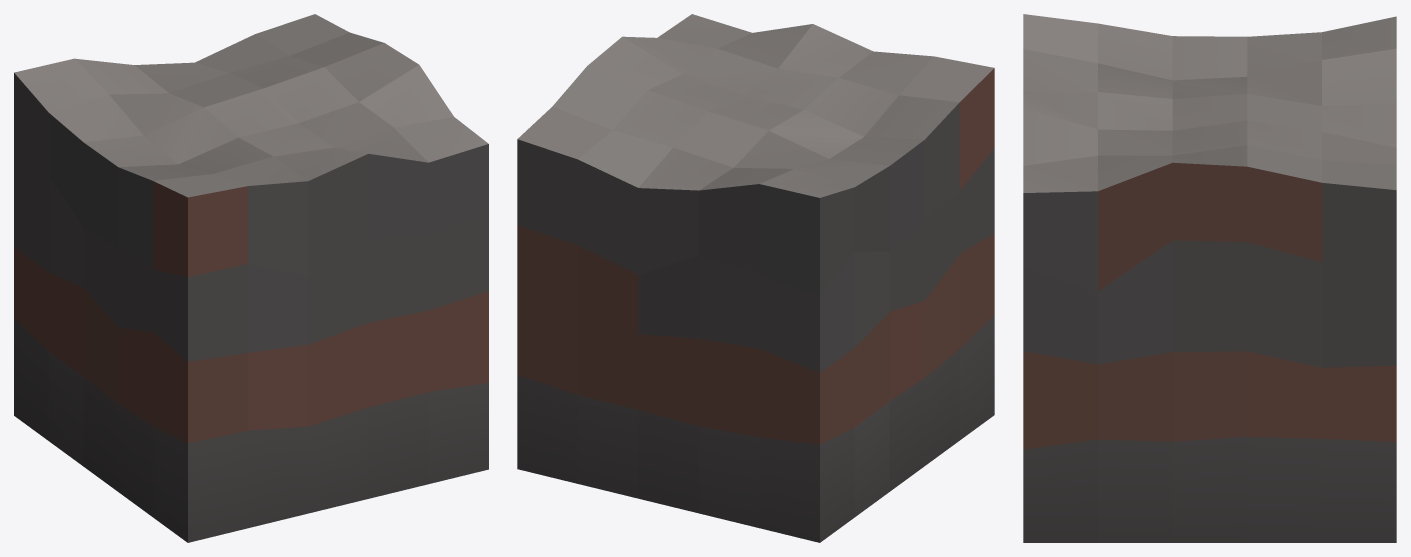
Rendered from roca_relleno_3.glb.
The picture shows the model from 3 angles, left to right: view 1: azimuth 30°, elevation 25°; view 2: azimuth 150°, elevation 25°; view 3: azimuth 270°, elevation 25°; orthographic projection. The views are drawn at different scales.
Parts seen in each view (by area): view 1: propforge-cuartos-roca_relleno; view 2: propforge-cuartos-roca_relleno; view 3: propforge-cuartos-roca_relleno.
Part boxes in pixels (x1=…): propforge-cuartos-roca_relleno: x1=14, y1=14, x2=488, y2=542; propforge-cuartos-roca_relleno: x1=517, y1=14, x2=994, y2=542; propforge-cuartos-roca_relleno: x1=1023, y1=14, x2=1396, y2=542.
Bounding box in the file's own units: 1 × 1.12 × 1.
